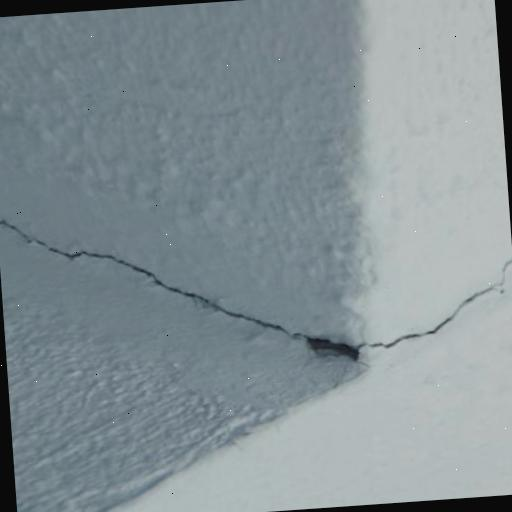spalling: (0, 212, 512, 358)
